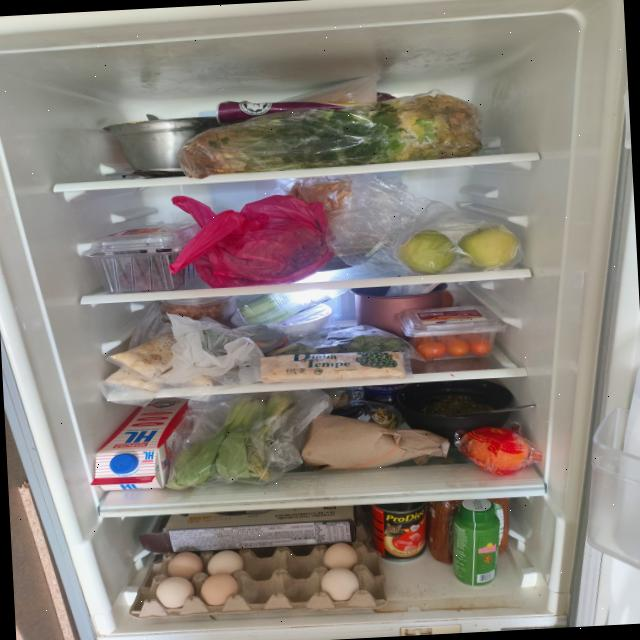apple: (457, 224, 521, 270), (396, 228, 457, 276)
egg: (126, 540, 388, 620)
leafy_greens: (178, 90, 484, 178)
orange: (464, 425, 530, 473)
pakchoy: (162, 394, 301, 492)
tempeh: (102, 319, 216, 396), (258, 348, 407, 386)
unknown_bag: (164, 188, 336, 290)
